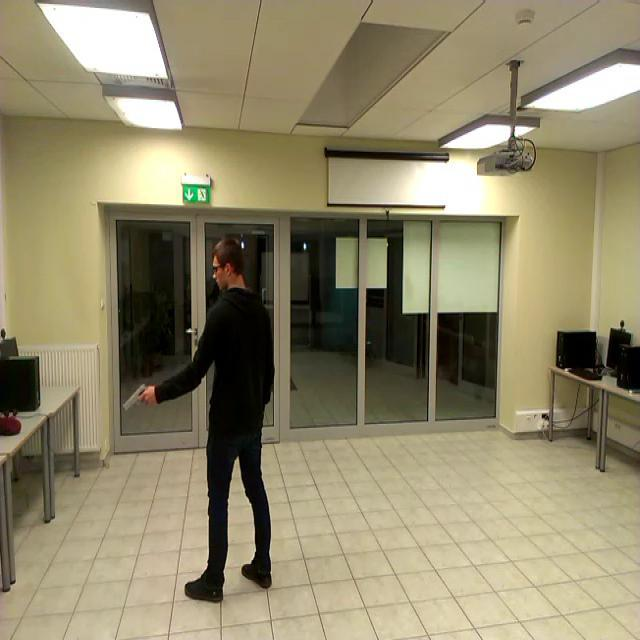Gun: (124, 382, 154, 410)
